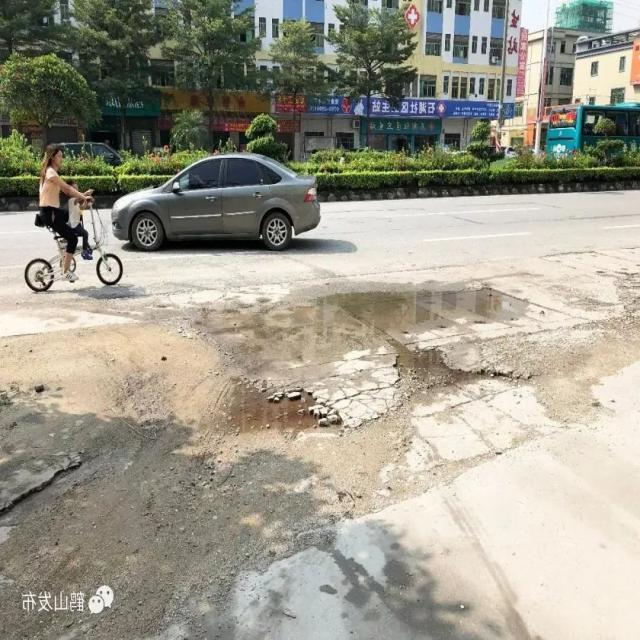pothole: (376, 342, 534, 418), (215, 381, 344, 446)
